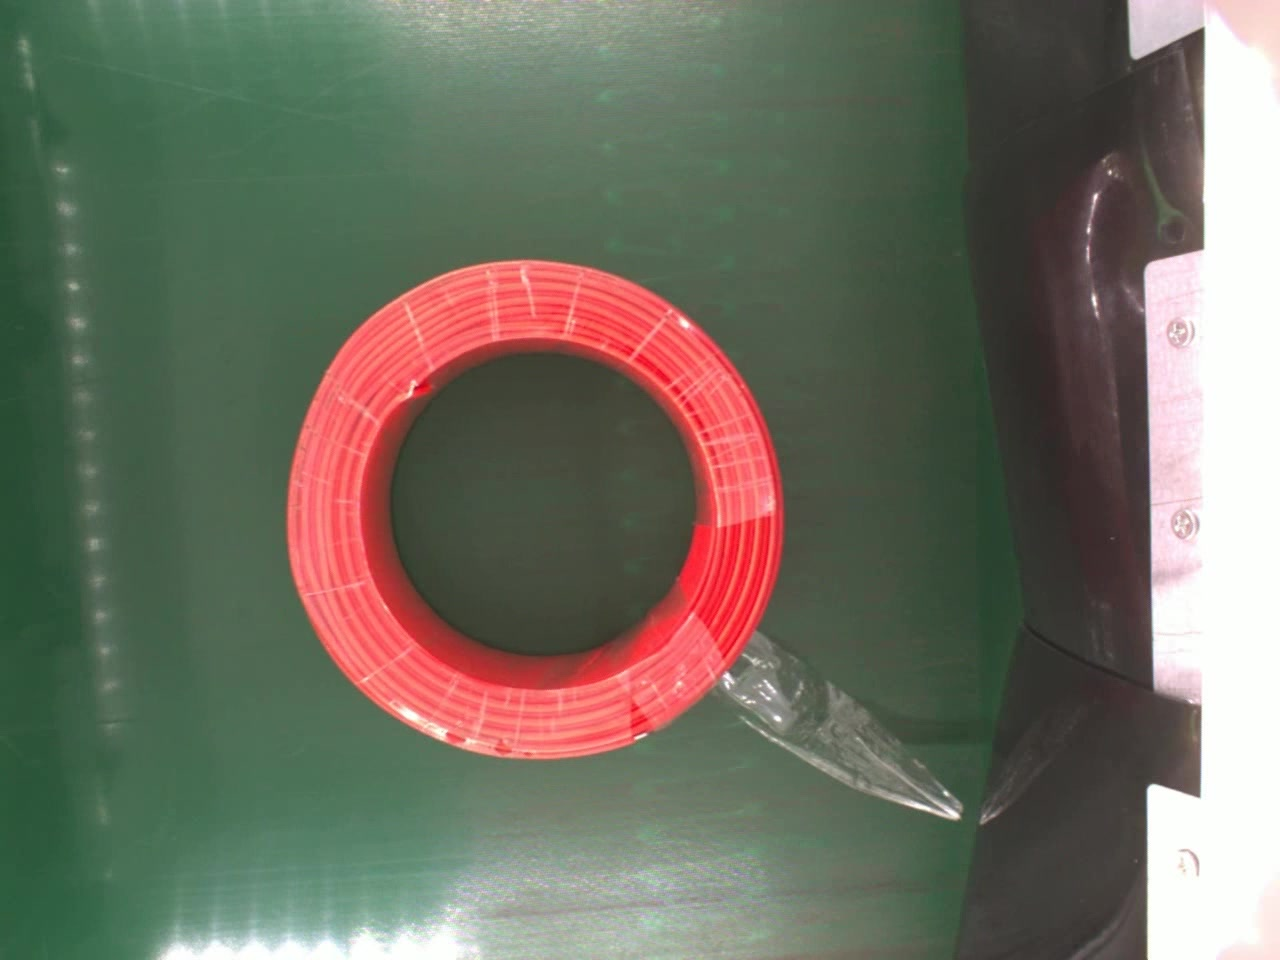red: (284, 260, 786, 767)
